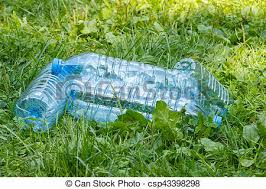plastic_bottle: (51, 53, 202, 107), (22, 56, 69, 132)
